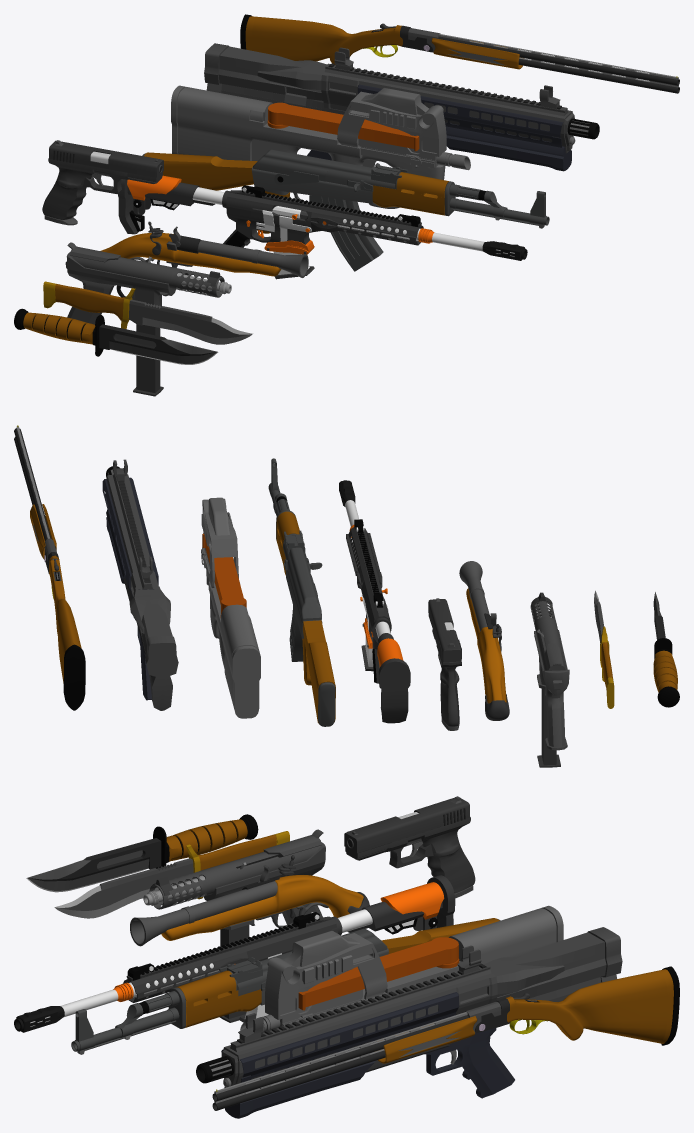
File: weapon_pack_of_10100_part_3.glb
The picture shows the model from 3 angles, top to bottom: view 1: azimuth 30°, elevation 25°; view 2: azimuth 150°, elevation 25°; view 3: azimuth 270°, elevation 25°; orthographic projection. The views are drawn at different scales.
Parts seen in each view (by area): view 1: Utas_UTS15, FN_P90, AK-47, Derya_MK12, Weatherby_Orion, Tec_9, Glock_17, Flintlock, Bowie_Knife, Kabar_1250; view 2: Utas_UTS15, FN_P90, AK-47, Derya_MK12, Weatherby_Orion, Tec_9, Flintlock, Glock_17, Kabar_1250, Bowie_Knife; view 3: Utas_UTS15, Weatherby_Orion, FN_P90, Derya_MK12, AK-47, Flintlock, Glock_17, Tec_9, Kabar_1250, Bowie_Knife.
Part boxes in pixels (box(x1,y1,x2,y2)): Utas_UTS15: box(204, 43, 599, 171); FN_P90: box(171, 85, 470, 208); AK-47: box(142, 149, 549, 271); Derya_MK12: box(118, 175, 527, 279); Weatherby_Orion: box(240, 14, 679, 93); Tec_9: box(65, 242, 231, 396); Glock_17: box(42, 140, 163, 225); Flintlock: box(100, 221, 308, 277); Bowie_Knife: box(43, 281, 252, 344); Kabar_1250: box(14, 308, 218, 364); Utas_UTS15: box(102, 459, 178, 710); FN_P90: box(201, 497, 260, 718); AK-47: box(268, 458, 335, 726); Derya_MK12: box(339, 480, 410, 723); Weatherby_Orion: box(14, 425, 85, 710); Tec_9: box(530, 592, 569, 767); Flintlock: box(459, 561, 509, 720); Glock_17: box(428, 598, 461, 730); Kabar_1250: box(653, 592, 679, 707); Bowie_Knife: box(594, 590, 614, 708); Utas_UTS15: box(196, 927, 622, 1118); Weatherby_Orion: box(212, 966, 679, 1110); FN_P90: box(240, 905, 563, 1032); Derya_MK12: box(14, 875, 455, 1032); AK-47: box(71, 918, 500, 1054); Flintlock: box(130, 855, 369, 946); Glock_17: box(344, 796, 475, 898); Tec_9: box(143, 829, 325, 1022); Kabar_1250: box(26, 814, 258, 892); Bowie_Knife: box(54, 831, 289, 918).
Bounding box in the file's own units: 72.91 × 21.57 × 53.21.
Materials: 2 (2 with a texture image).
